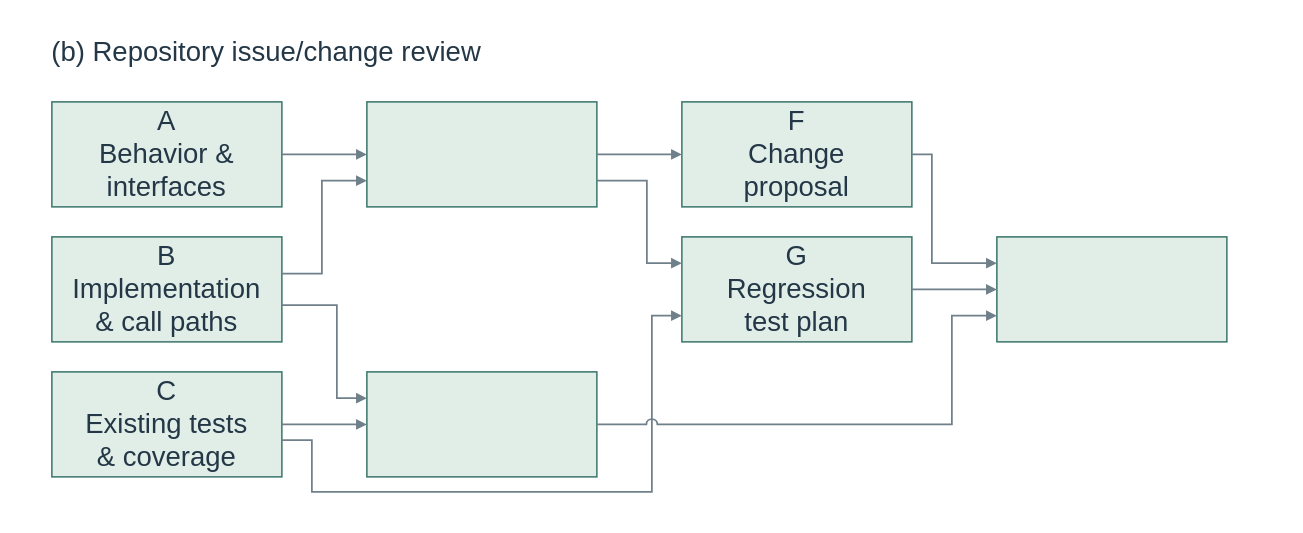
Some shapes in this 1303 by 533 pixel diagram are drawn without their labels. Each missing label, with the centre of its shape:
D Root-cause analysis: (481,153)
E Compatibility & risks: (481,423)
H Final review: (1111,289)
